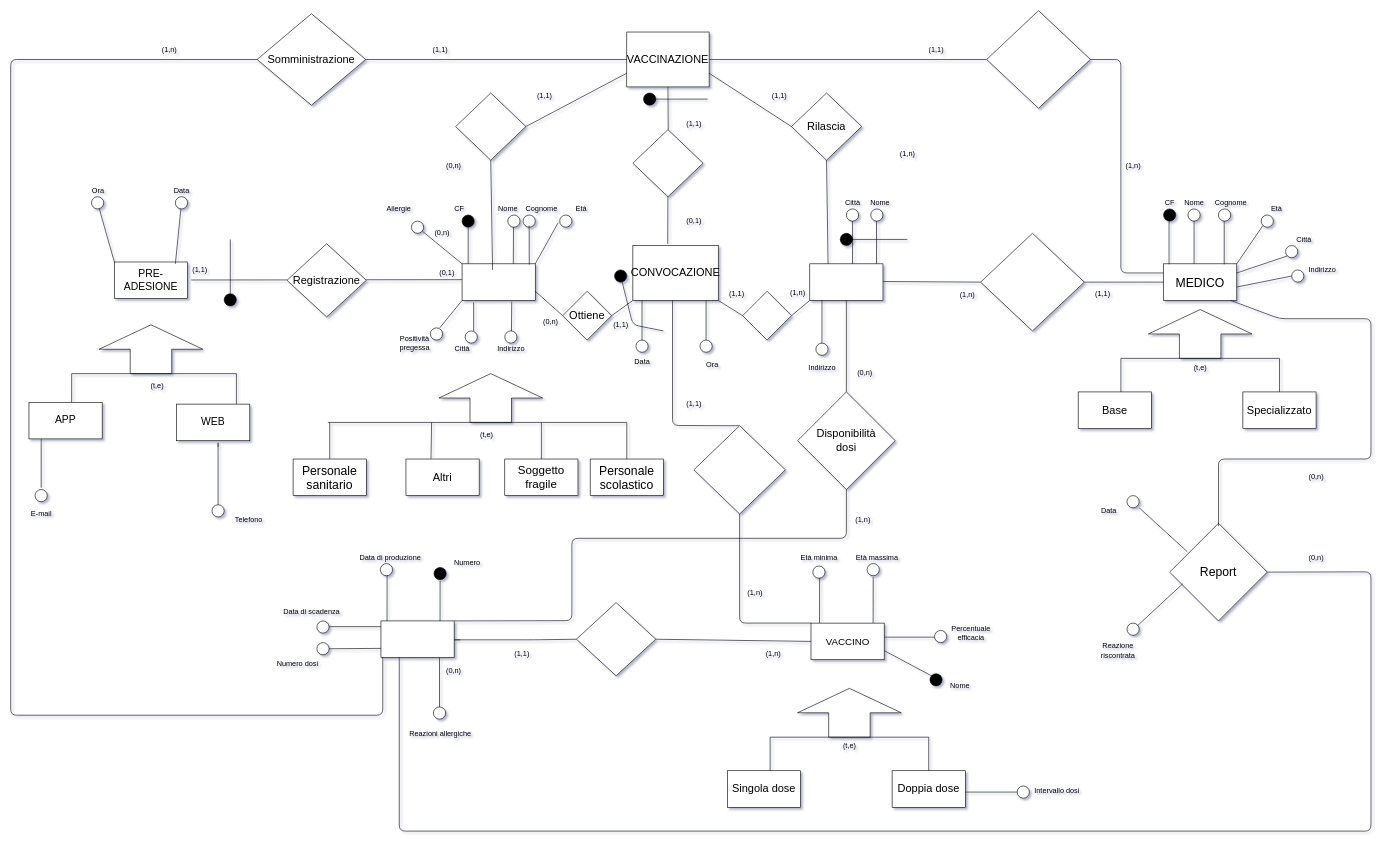
Some shapes in this 1386 by 846 pixel diagram are drawn without their labels. The centre of each missing label's shape, as x and y in pixels:
Afferenza: (1032,282)
CENTRO VACCINALE: (846,281)
Contiene: (616,639)
Convoca: (766,315)
Effettua: (1038,59)
LOTTO: (417,639)
Riceve: (490,126)
Segue: (667,163)
Utilizza: (739,469)
VACCINANDO: (498,281)
